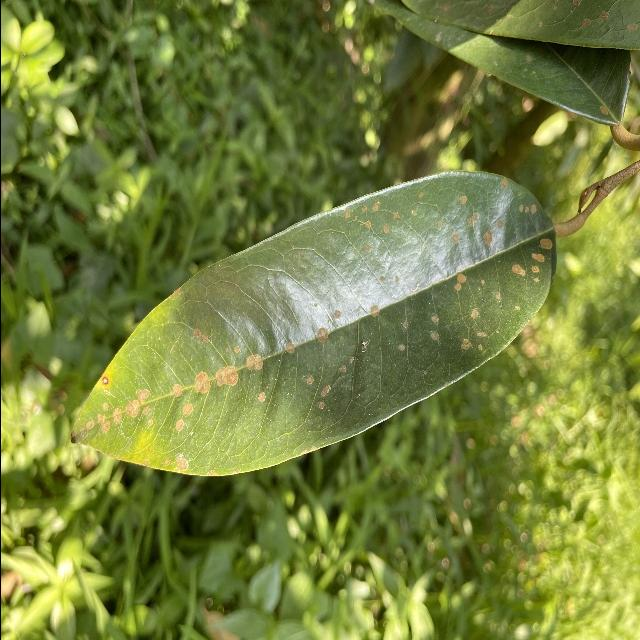Algal Leaf Spot: (68, 161, 565, 481)
